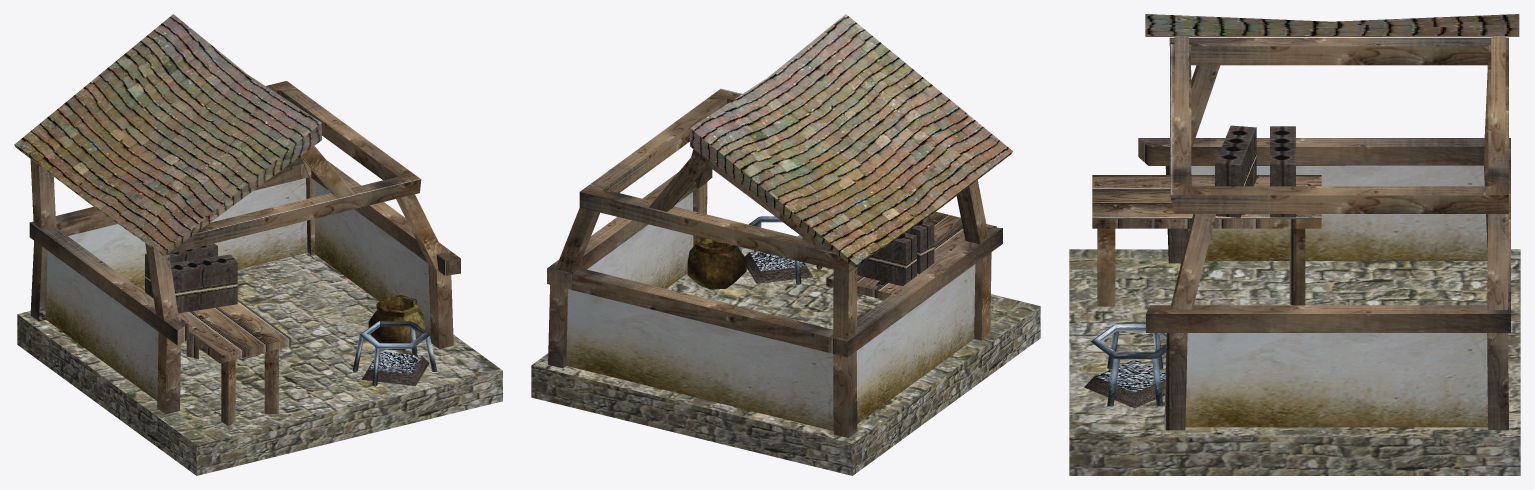
The model's file is building_chandler_workshop.glb.
3 renders of one model, left to right at view 1: azimuth 30°, elevation 25°; view 2: azimuth 150°, elevation 25°; view 3: azimuth 270°, elevation 25°, orthographic. The views are drawn at different scales.
Visible parts, largest first — view 1: building_chandler_workshop; view 2: building_chandler_workshop; view 3: building_chandler_workshop.
Part boxes in pixels (box(x1,y1,x2,y2)): building_chandler_workshop: box(14, 14, 502, 475); building_chandler_workshop: box(531, 14, 1040, 475); building_chandler_workshop: box(1069, 14, 1520, 475).
Size of the model in its own units: 4.33 by 3.91 by 4.34.
7 materials, 7 textured.
